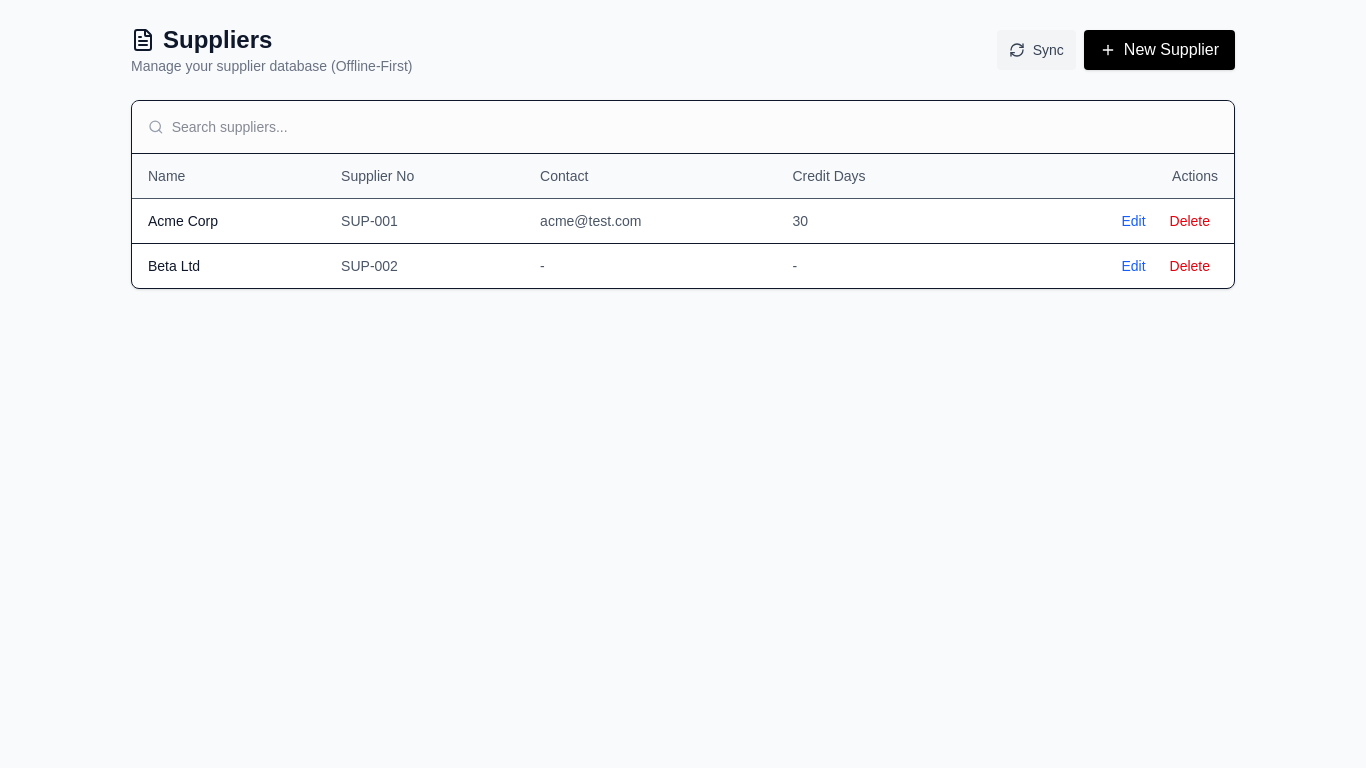
Scenario: SuppliersPage › opens edit form with existing data
# Click first Edit button
Click the button "Edit" in the row of "Acme Corp". click: (1133, 221)
box: left=1113, top=211, right=1154, bottom=231
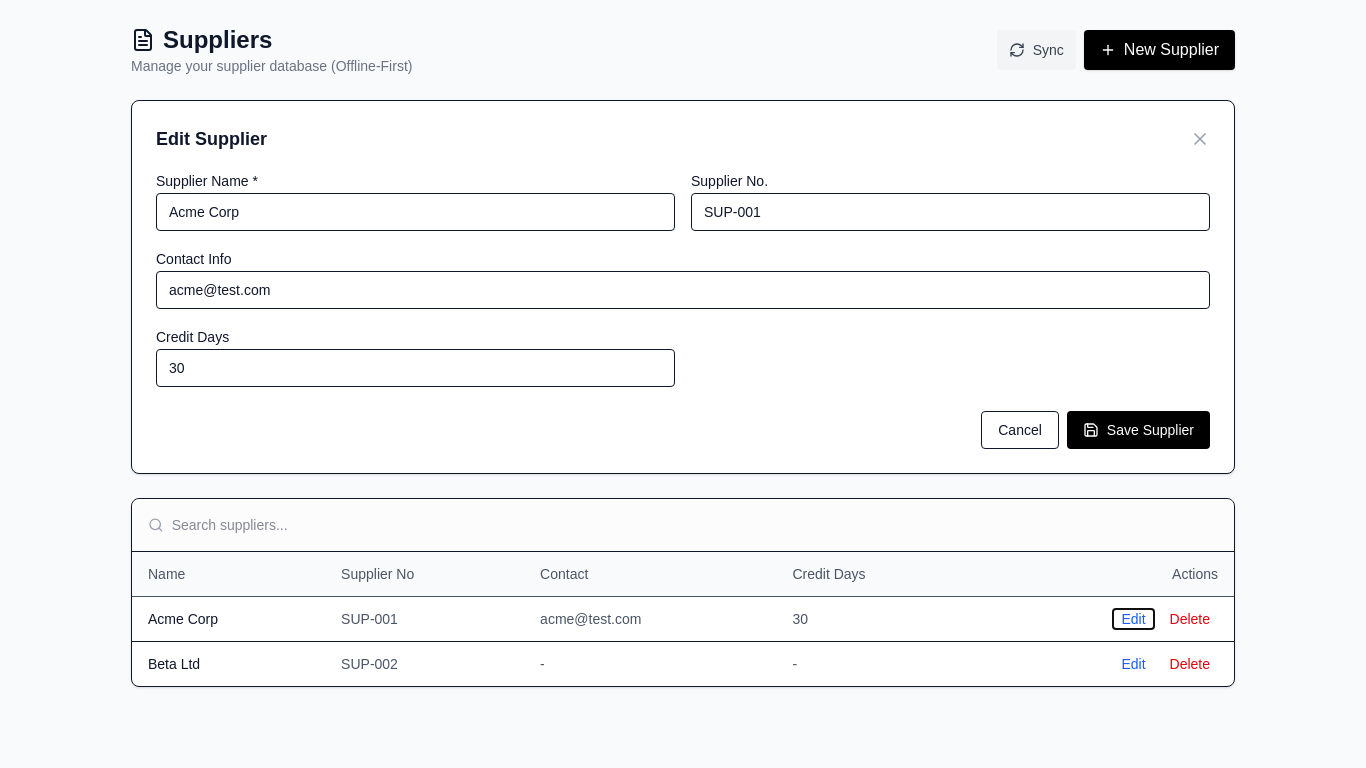
expect the heading "Edit Supplier" is shown: met, box left=156, top=125, right=267, bottom=153
expect the field with placeholder "e.g. Acme Corp" below "Supplier Name *" holds "Acme Corp": met, box left=156, top=193, right=675, bottom=231
